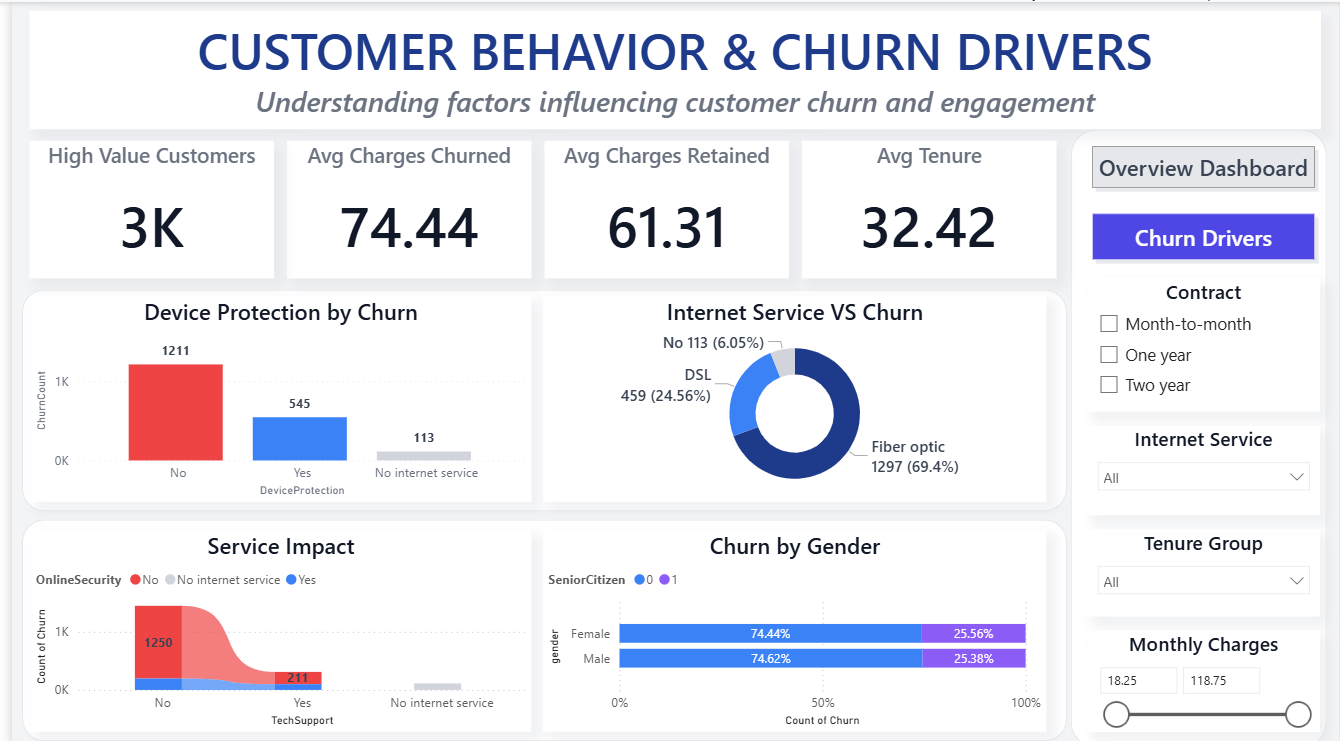

The dashboard page shown, as its layout file describes it:
{"tool":"powerbi","page":{"name":"CustomerBehavior&ChurnDrivers","canvas":[1280,720],"ordinal":1},"visuals":[{"type":"shape","box":[1022.3,123.5,247,596.9],"z":0},{"type":"slicer","title":"Contract","fields":{"Values":["FinalChurnData.Contract"]},"box":[1037.4,267,225,129],"z":1000},{"type":"shape","box":[9.6,499.5,1008.6,214.1],"z":2000},{"type":"actionButton","box":[1037.4,134.5,225,50.8],"z":3000},{"type":"shape","box":[9.6,277.2,1008.6,214.1],"z":4000},{"type":"slicer","title":"Internet Service","fields":{"Values":["FinalChurnData.InternetService"]},"box":[1037.4,409.5,225,86.4],"z":5000},{"type":"textbox","box":[16.9,8.4,1246.3,114.6],"z":6000},{"type":"actionButton","box":[1037.4,198.7,225,54.9],"z":7000},{"type":"cardVisual","title":"Avg Charges Churned","fields":{"Data":["FinalChurnData.AvgChargesChurned"]},"box":[265.3,134.5,236,133.1],"z":8000},{"type":"slicer","title":"Tenure Group","fields":{"Values":["FinalChurnData.TenureGroup"]},"box":[1037.4,509.4,225,83.7],"z":9000},{"type":"cardVisual","title":"Avg Charges Retained","fields":{"Data":["FinalChurnData.AvgChargesNonChurned"]},"box":[514.1,134.5,236,133.1],"z":10000},{"type":"slicer","title":"Monthly Charges","fields":{"Values":["FinalChurnData.MonthlyCharges"]},"box":[1037.4,606.5,225,97.4],"z":11000},{"type":"cardVisual","title":"Avg Tenure","fields":{"Data":["FinalChurnData.AvgTenure"]},"box":[763,134.5,245.6,133.1],"z":12000},{"type":"cardVisual","title":"High Value Customers","fields":{"Data":["FinalChurnData.HighValueCustomers"]},"box":[16.5,134.5,236,133.1],"z":13000},{"type":"columnChart","title":"Device Protection by Churn","fields":{"Y":["FinalChurnData.ChurnCount"],"Category":["FinalChurnData.DeviceProtection"]},"box":[17.8,284,483,199],"z":14000},{"type":"donutChart","title":"Internet Service VS Churn","fields":{"Category":["FinalChurnData.InternetService"],"Y":["FinalChurnData.ChurnCount"]},"box":[513.2,284,485.8,199],"z":15000},{"type":"ribbonChart","title":"Service Impact","fields":{"Category":["FinalChurnData.TechSupport"],"Y":["FinalChurnData.ChurnCount"],"Series":["FinalChurnData.OnlineSecurity"]},"box":[17.8,509.1,483,194.9],"z":16000},{"type":"hundredPercentStackedBarChart","title":"Churn by Gender","fields":{"Category":["FinalChurnData.gender"],"Y":["FinalChurnData.ChurnCount"],"Series":["FinalChurnData.SeniorCitizen"]},"box":[513.2,509.1,485.8,194.9],"z":17000}]}

Visuals, with their boxes in screenshot pixels (x1, y1, x2, y2), scaled from the page's 1280x720 canvas onto the 1340x741 screenshot:
shape: 1070:127:1329:740
"Contract" slicer: 1086:275:1322:408
shape: 10:514:1066:734
actionButton: 1086:138:1322:191
shape: 10:285:1066:506
"Internet Service" slicer: 1086:421:1322:510
textbox: 18:9:1322:127
actionButton: 1086:204:1322:261
"Avg Charges Churned" cardVisual: 278:138:525:275
"Tenure Group" slicer: 1086:524:1322:610
"Avg Charges Retained" cardVisual: 538:138:785:275
"Monthly Charges" slicer: 1086:624:1322:724
"Avg Tenure" cardVisual: 799:138:1056:275
"High Value Customers" cardVisual: 17:138:264:275
"Device Protection by Churn" columnChart: 19:292:524:497
"Internet Service VS Churn" donutChart: 537:292:1046:497
"Service Impact" ribbonChart: 19:524:524:725
"Churn by Gender" hundredPercentStackedBarChart: 537:524:1046:725
